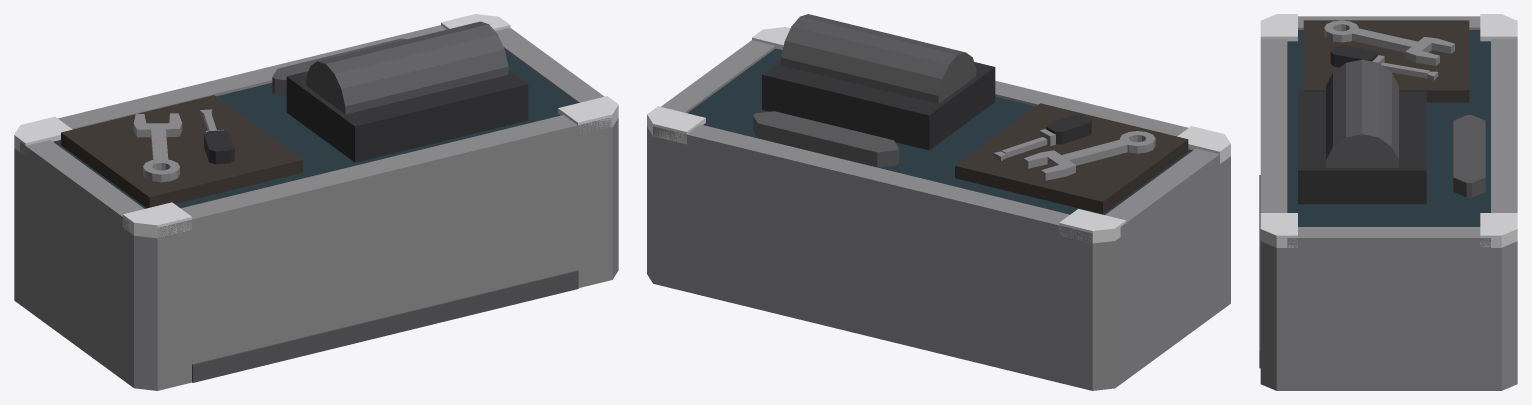
Rendered from vge_compact_machining_table.obj.
3 views of the same model, side by side, from view 1: azimuth 30°, elevation 25°; view 2: azimuth 150°, elevation 25°; view 3: azimuth 270°, elevation 25° (orthographic). The views are drawn at different scales.
Visible parts, largest first — view 1: vge_compact_machining_table_0, vge_compact_machining_table_11, vge_compact_machining_table_22, vge_compact_machining_table_23, vge_compact_machining_table_2, vge_compact_machining_table_1, vge_compact_machining_table_10, vge_compact_machining_table_3, vge_compact_machining_table_4, vge_compact_machining_table_5, vge_compact_machining_table_6, vge_compact_machining_table_8 (+7 smaller); view 2: vge_compact_machining_table_0, vge_compact_machining_table_11, vge_compact_machining_table_22, vge_compact_machining_table_23, vge_compact_machining_table_3, vge_compact_machining_table_1, vge_compact_machining_table_21, vge_compact_machining_table_4, vge_compact_machining_table_2, vge_compact_machining_table_5, vge_compact_machining_table_7, vge_compact_machining_table_9 (+5 smaller); view 3: vge_compact_machining_table_0, vge_compact_machining_table_1, vge_compact_machining_table_22, vge_compact_machining_table_23, vge_compact_machining_table_11, vge_compact_machining_table_2, vge_compact_machining_table_3, vge_compact_machining_table_5, vge_compact_machining_table_21, vge_compact_machining_table_8, vge_compact_machining_table_9, vge_compact_machining_table_4 (+10 smaller).
Boxes of the visible parts, left/top/right/bottom form: vge_compact_machining_table_0: left=14, top=118, right=618, bottom=390; vge_compact_machining_table_11: left=61, top=95, right=302, bottom=208; vge_compact_machining_table_22: left=286, top=70, right=528, bottom=162; vge_compact_machining_table_23: left=306, top=21, right=508, bottom=114; vge_compact_machining_table_2: left=157, top=115, right=612, bottom=237; vge_compact_machining_table_1: left=53, top=50, right=576, bottom=208; vge_compact_machining_table_10: left=192, top=270, right=578, bottom=382; vge_compact_machining_table_3: left=58, top=25, right=446, bottom=129; vge_compact_machining_table_4: left=20, top=140, right=144, bottom=229; vge_compact_machining_table_5: left=495, top=27, right=604, bottom=103; vge_compact_machining_table_6: left=122, top=202, right=191, bottom=238; vge_compact_machining_table_8: left=558, top=96, right=618, bottom=133; vge_compact_machining_table_0: left=647, top=127, right=1230, bottom=390; vge_compact_machining_table_11: left=955, top=103, right=1188, bottom=214; vge_compact_machining_table_22: left=762, top=61, right=995, bottom=150; vge_compact_machining_table_23: left=781, top=14, right=976, bottom=103; vge_compact_machining_table_3: left=653, top=124, right=1092, bottom=243; vge_compact_machining_table_1: left=687, top=48, right=1192, bottom=214; vge_compact_machining_table_21: left=753, top=111, right=898, bottom=167; vge_compact_machining_table_4: left=1105, top=148, right=1219, bottom=236; vge_compact_machining_table_2: left=995, top=80, right=1188, bottom=136; vge_compact_machining_table_5: left=661, top=40, right=775, bottom=112; vge_compact_machining_table_7: left=1059, top=209, right=1125, bottom=243; vge_compact_machining_table_9: left=647, top=106, right=705, bottom=144; vge_compact_machining_table_0: left=1260, top=241, right=1517, bottom=390; vge_compact_machining_table_1: left=1287, top=30, right=1490, bottom=226; vge_compact_machining_table_22: left=1298, top=91, right=1426, bottom=204; vge_compact_machining_table_23: left=1326, top=59, right=1398, bottom=167; vge_compact_machining_table_11: left=1303, top=20, right=1469, bottom=102; vge_compact_machining_table_2: left=1260, top=39, right=1287, bottom=212; vge_compact_machining_table_3: left=1491, top=39, right=1517, bottom=212; vge_compact_machining_table_5: left=1287, top=227, right=1490, bottom=247; vge_compact_machining_table_21: left=1453, top=115, right=1485, bottom=197; vge_compact_machining_table_8: left=1260, top=213, right=1297, bottom=247; vge_compact_machining_table_9: left=1480, top=213, right=1517, bottom=247; vge_compact_machining_table_4: left=1298, top=16, right=1480, bottom=29.
Size of the model in its own units: 1.96 by 0.9 by 0.965.
